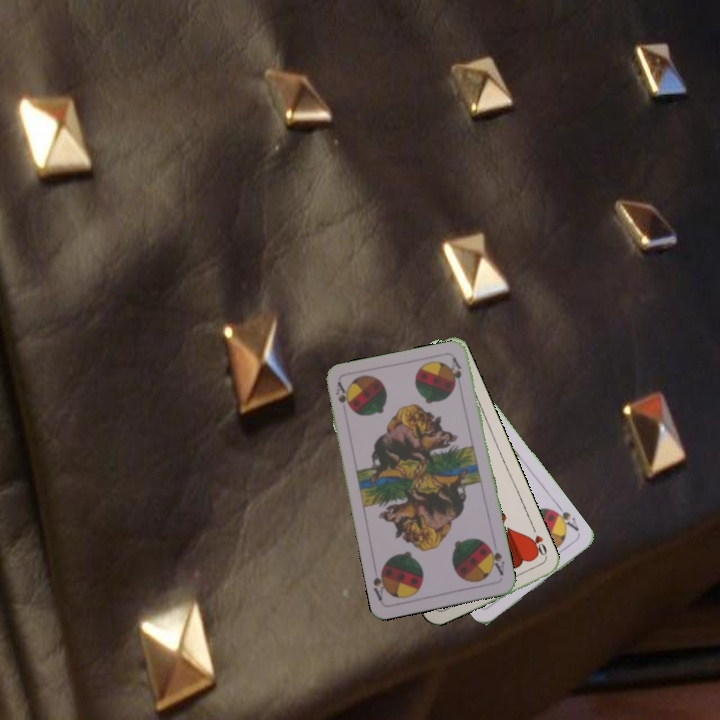HO: (524, 523, 550, 561)
SA: (548, 501, 582, 534), (484, 541, 507, 578), (332, 378, 353, 412)
